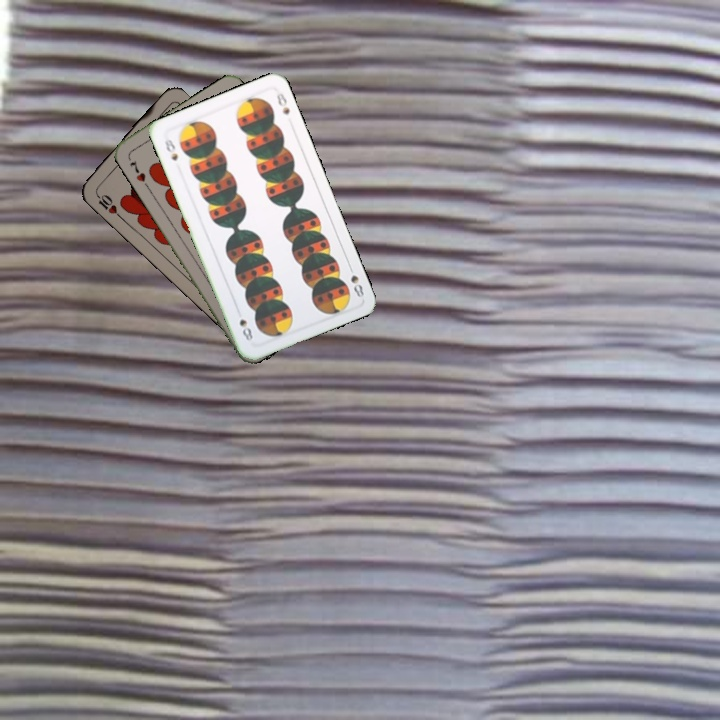H10: (91, 188, 124, 220)
H7: (126, 156, 148, 185)
S8: (344, 261, 367, 300), (160, 135, 181, 164)
